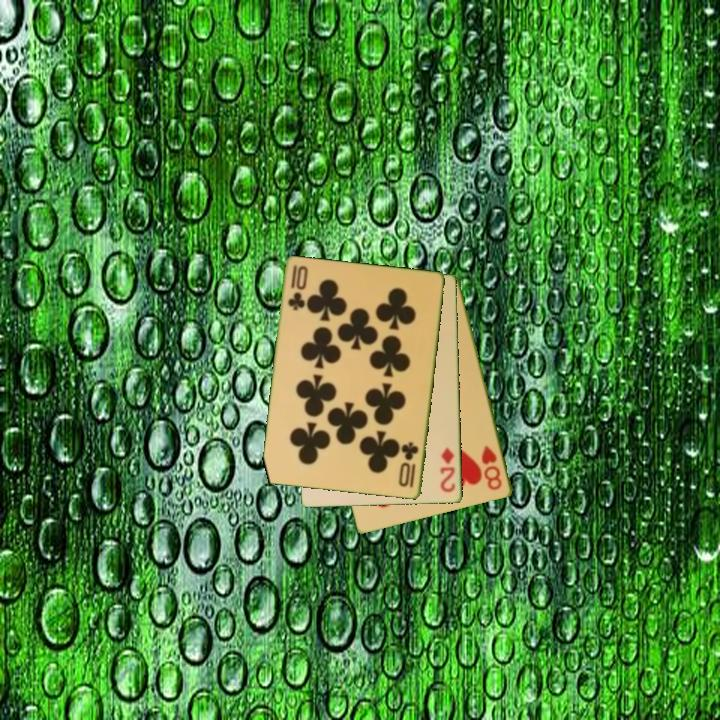10c: (396, 439, 422, 491), (284, 262, 306, 314)
2d: (437, 444, 458, 495)
8h: (478, 442, 505, 493)
